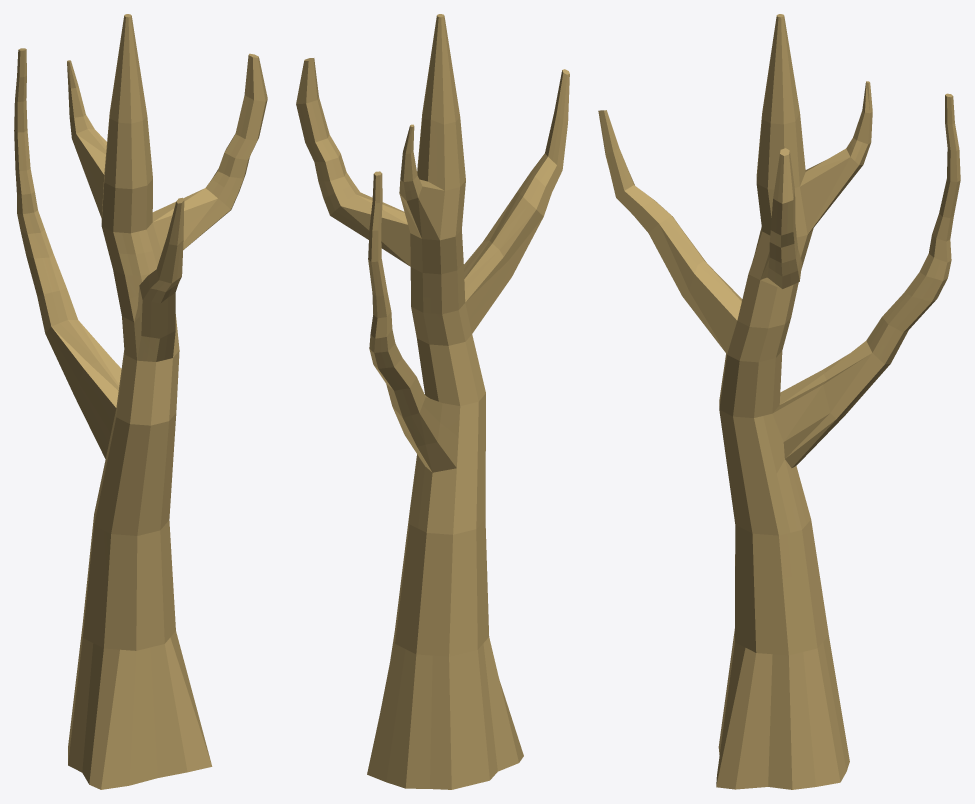
File: treemodel.fbx
3 views of the same model, side by side, from view 1: azimuth 30°, elevation 25°; view 2: azimuth 150°, elevation 25°; view 3: azimuth 270°, elevation 25° (orthographic).
Visible parts, largest first — view 1: Cylinder; view 2: Cylinder; view 3: Cylinder.
Part boxes in pixels (bbox=[...]): Cylinder: bbox=[14, 14, 267, 789]; Cylinder: bbox=[296, 14, 569, 789]; Cylinder: bbox=[598, 14, 960, 789].
Size of the model in its own units: 559 by 1270 by 357.
